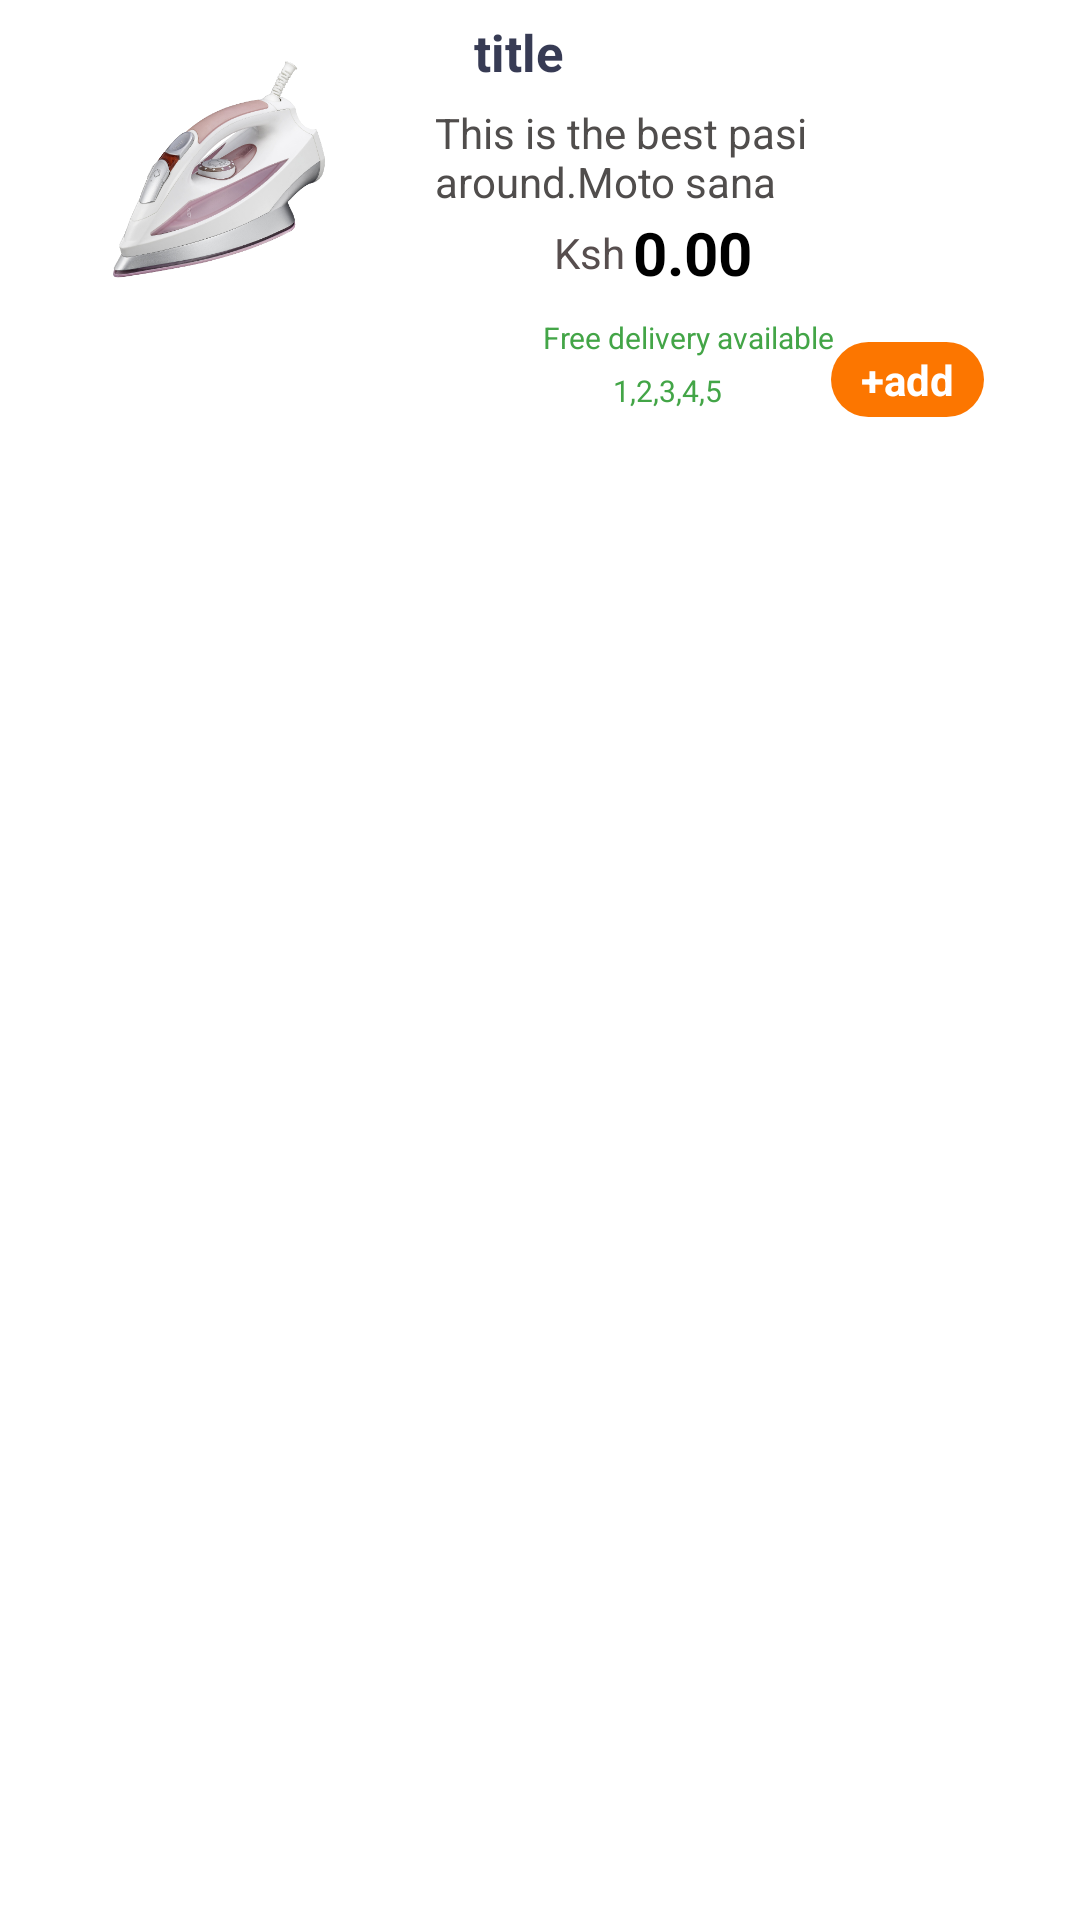

Named icons in this screenshot (1080 × 1920) and their bounding boxes, (x1, y1, x2, y2):
electric iron ab: (113, 62, 325, 278)
